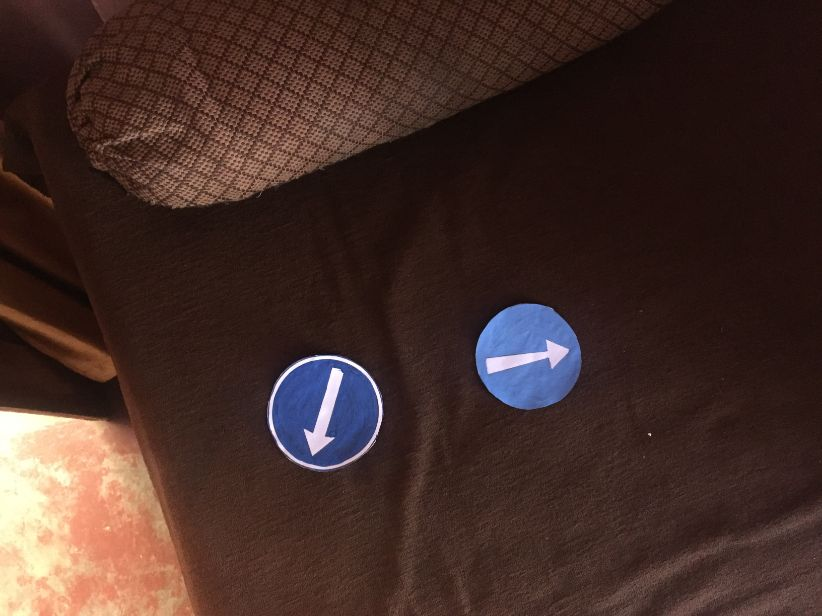go-stright: (269, 354, 384, 471)
keep-left: (474, 302, 587, 412)
